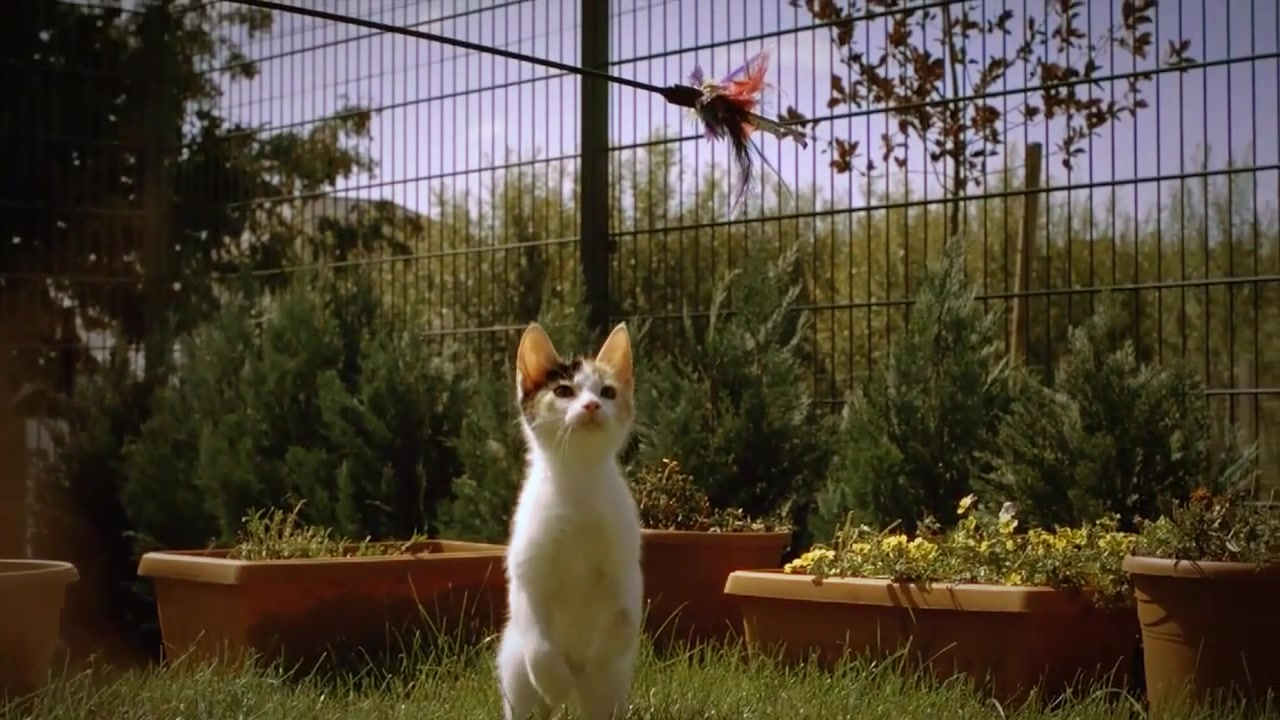cat: (499, 318, 651, 719)
